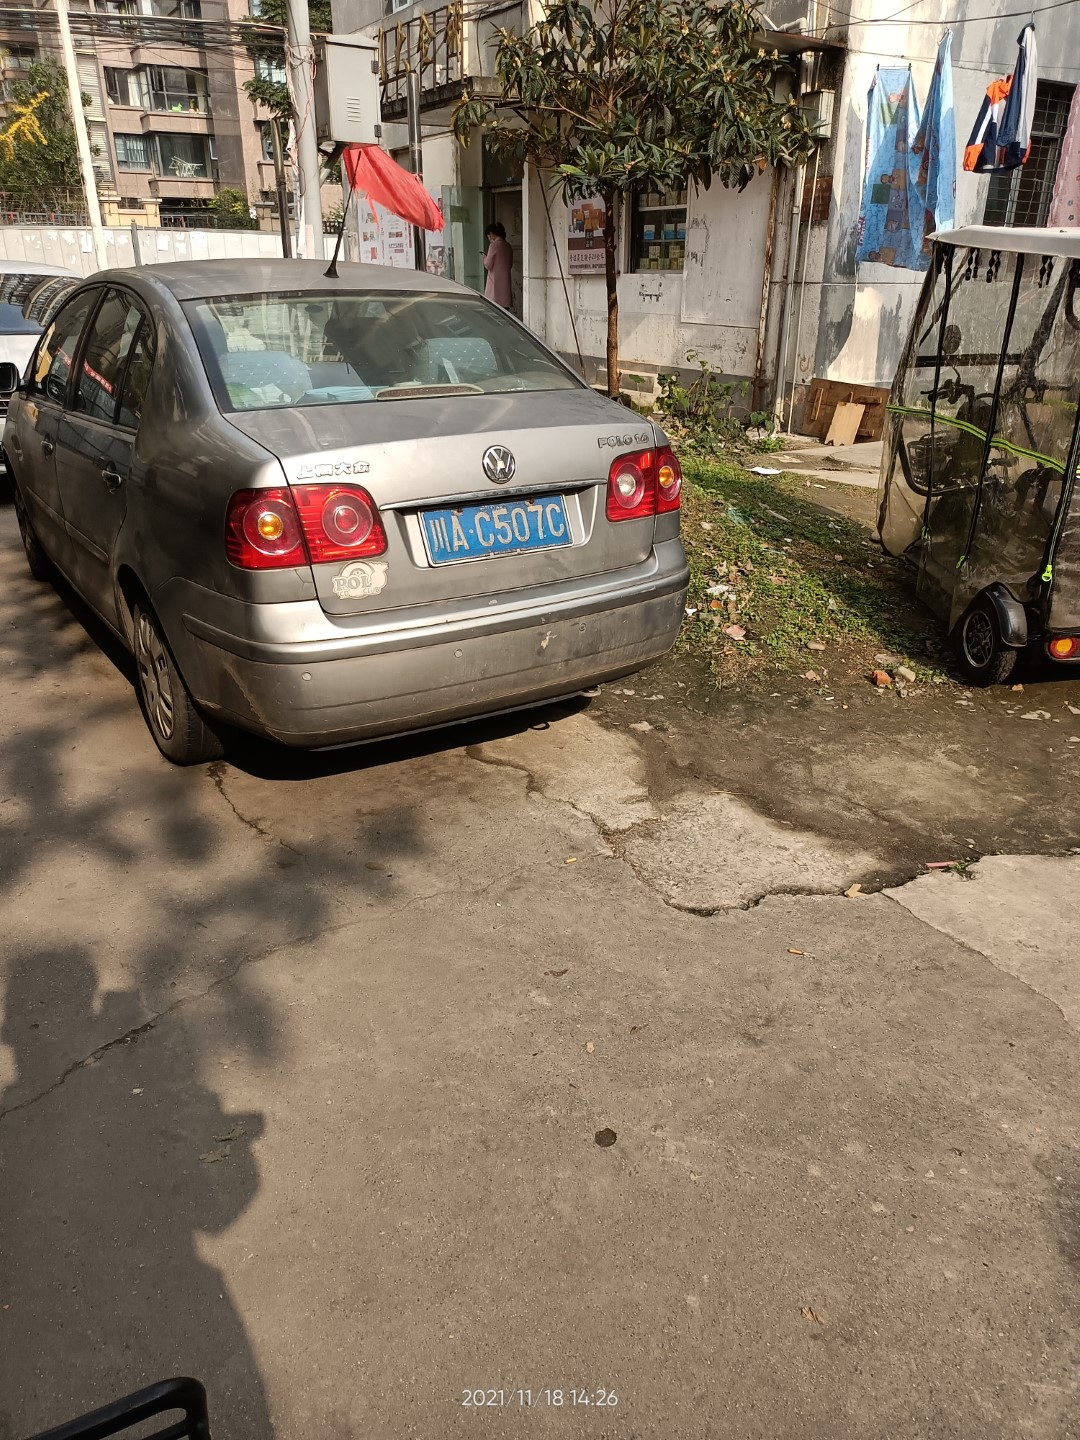plate: (420, 491, 572, 564)
